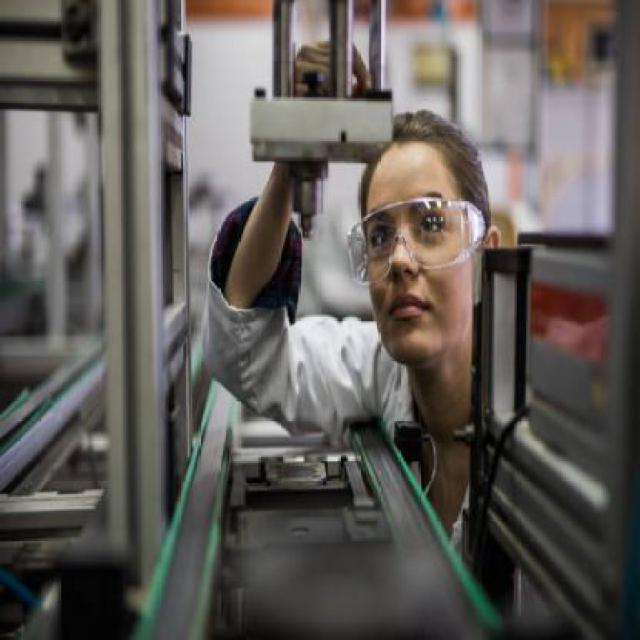glass: (333, 189, 486, 300)
head: (347, 101, 508, 375)
person: (212, 53, 543, 509)
